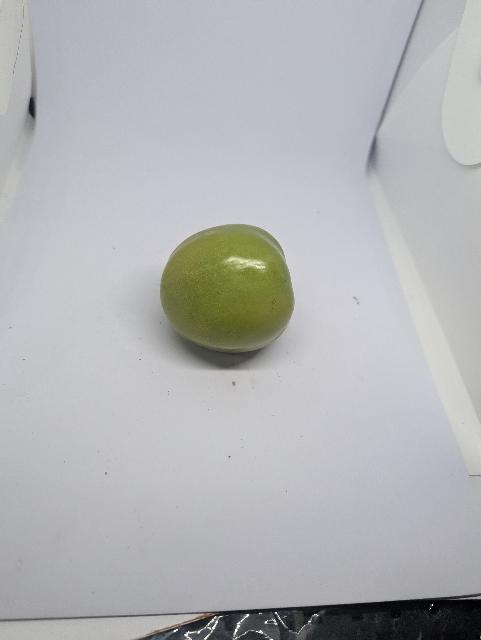green: (159, 220, 298, 357)
